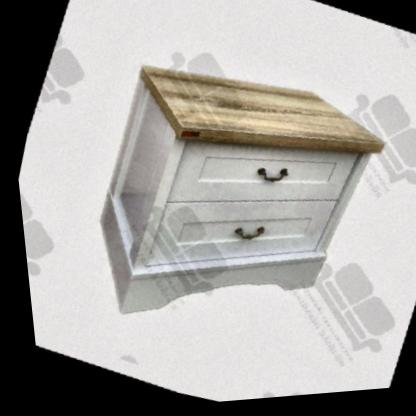Nightstand: (71, 43, 388, 347)
